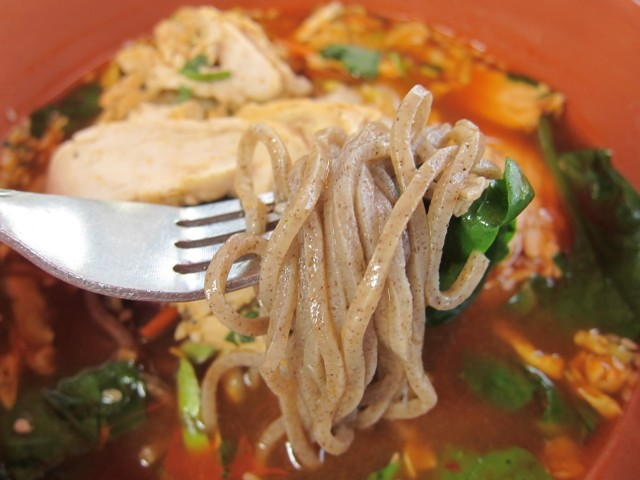Soba: (214, 117, 510, 453)
